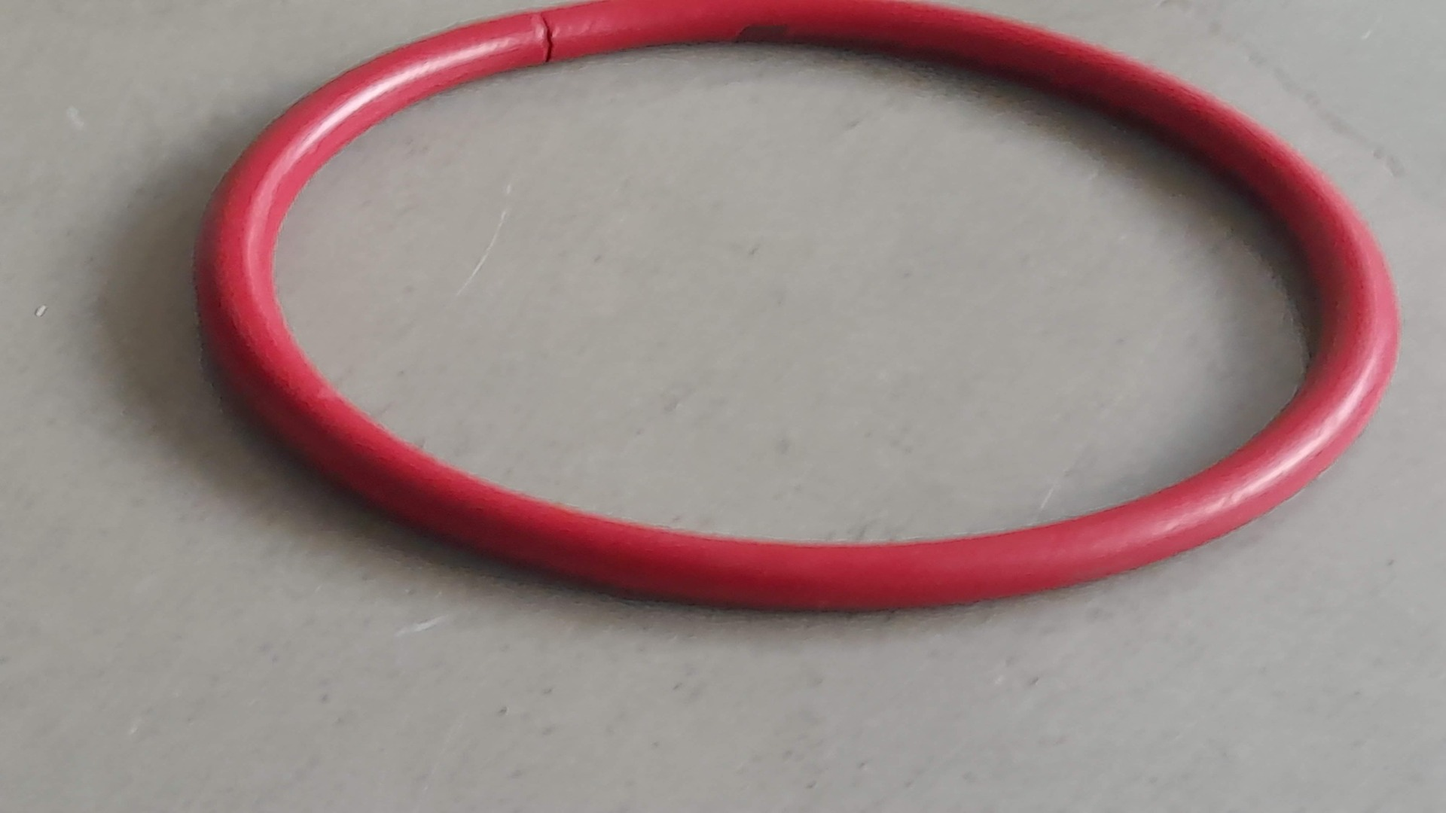Red ring: (208, 7, 1401, 606)
